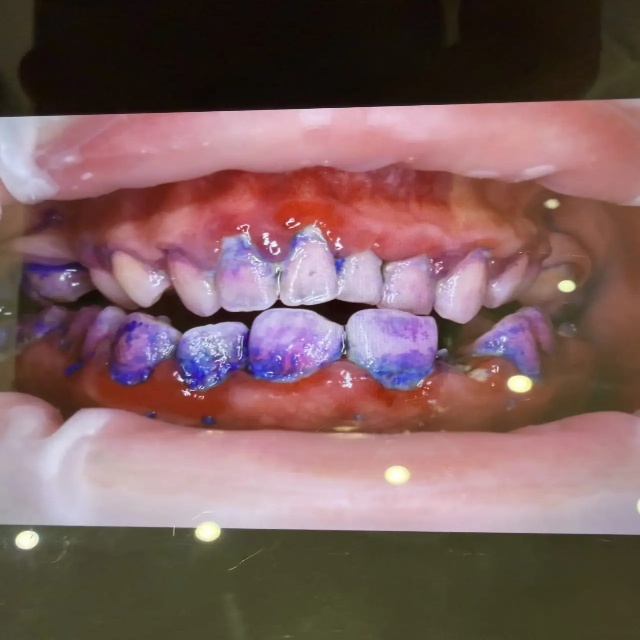plaque: (77, 311, 342, 390), (354, 257, 448, 387), (170, 236, 308, 285), (476, 308, 545, 376), (22, 253, 81, 297), (31, 306, 68, 336)
